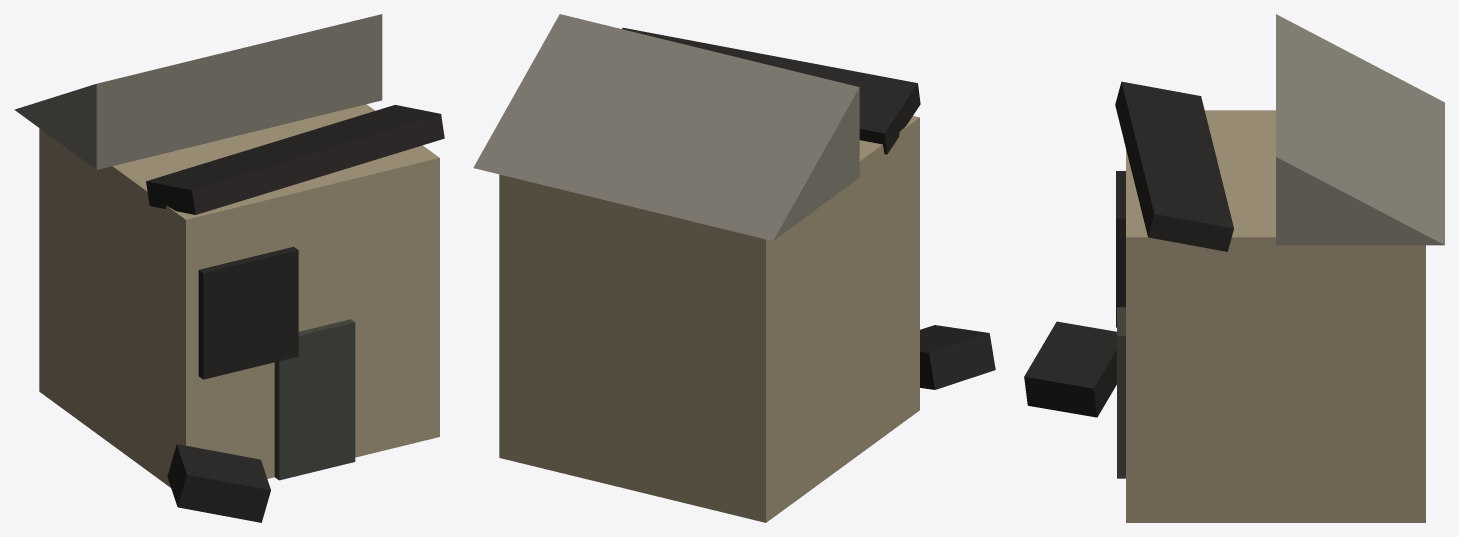
Rendered from RF_Prop_BuildingB_Damaged.glb.
3 views of the same model, side by side, from view 1: azimuth 30°, elevation 25°; view 2: azimuth 150°, elevation 25°; view 3: azimuth 270°, elevation 25° (orthographic). The views are drawn at different scales.
Parts seen in each view (by area): view 1: RF_Prop_BuildingB_Damaged; view 2: RF_Prop_BuildingB_Damaged; view 3: RF_Prop_BuildingB_Damaged.
Part boxes in pixels (x1,y1,x2,y2): RF_Prop_BuildingB_Damaged: (14,14,444,522); RF_Prop_BuildingB_Damaged: (473,14,995,522); RF_Prop_BuildingB_Damaged: (1024,14,1444,522).
Size of the model in its own units: 4.88 by 5.5 by 5.6.
